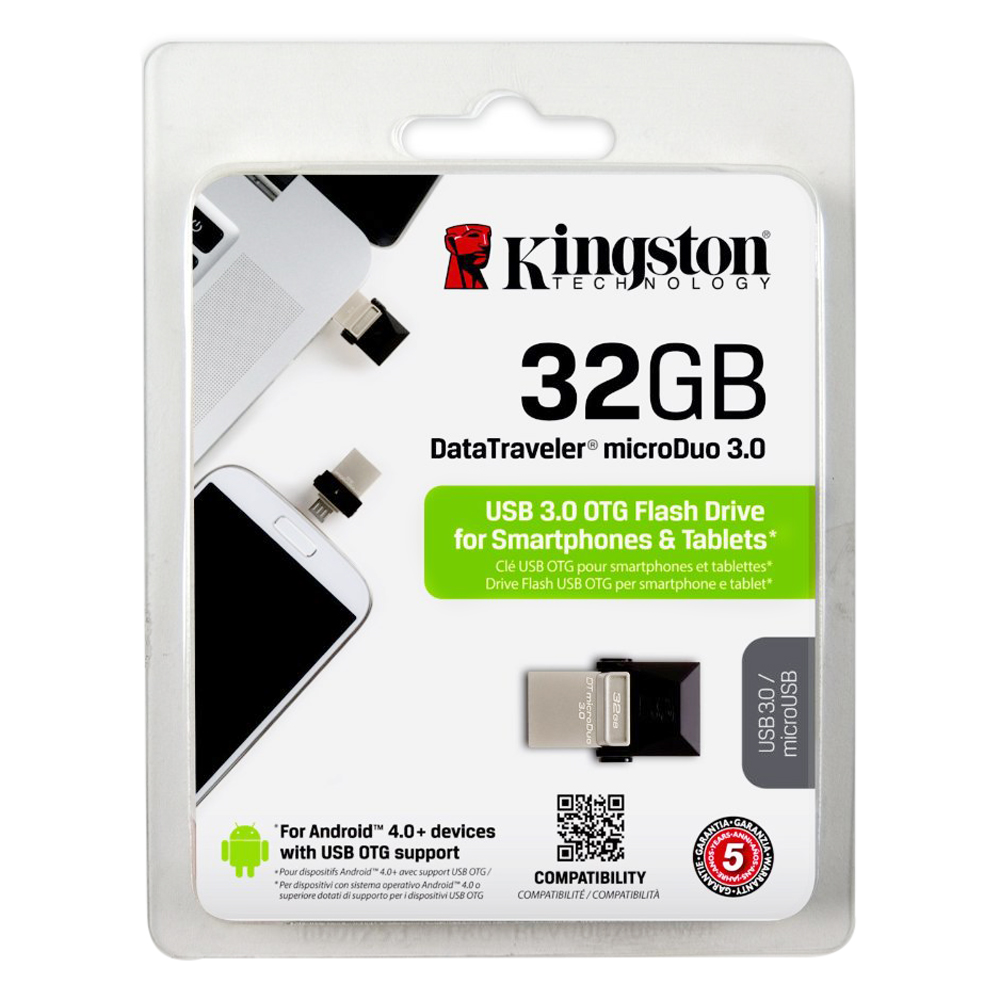Kingston: (430, 198, 780, 304)
